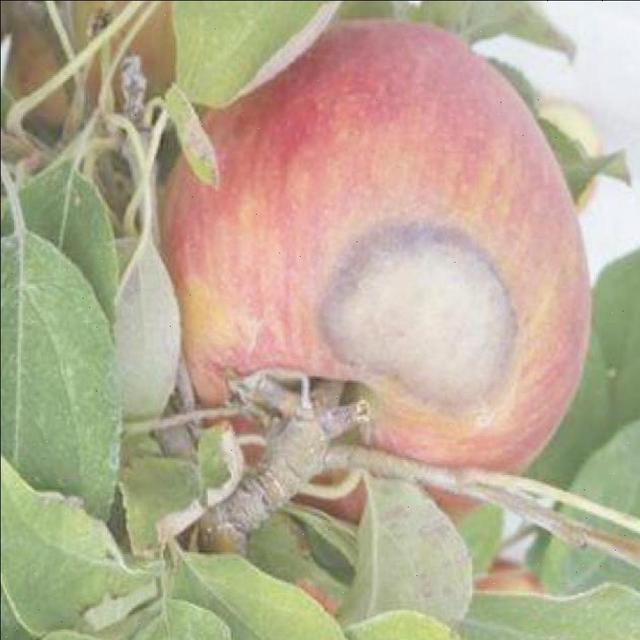Sunscald Fruit: (212, 142, 359, 277)
